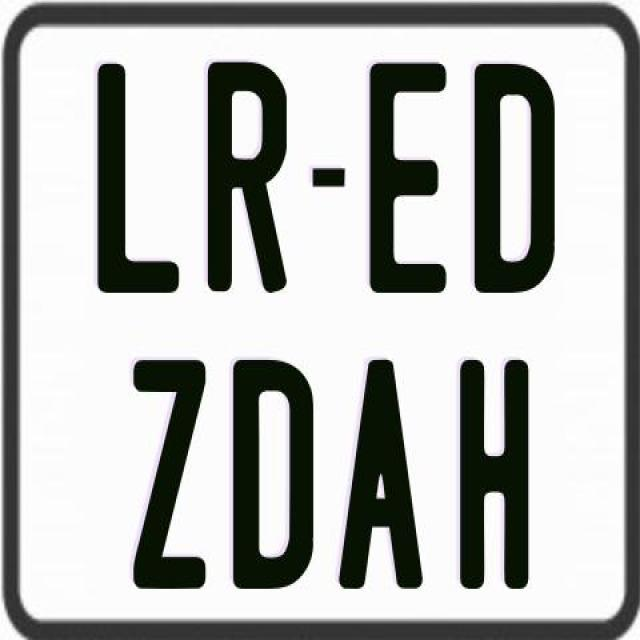A: (336, 355, 422, 593)
D: (234, 359, 322, 591), (475, 64, 561, 299)
E: (369, 59, 447, 291)
H: (456, 355, 526, 592)
L: (93, 64, 175, 294)
R: (207, 61, 289, 291)
Z: (131, 357, 209, 586)
